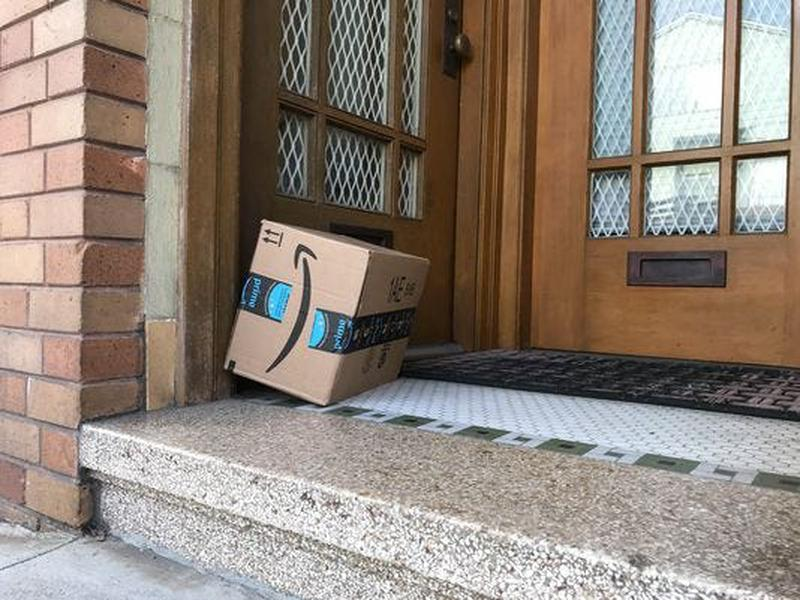package: (213, 208, 436, 415)
